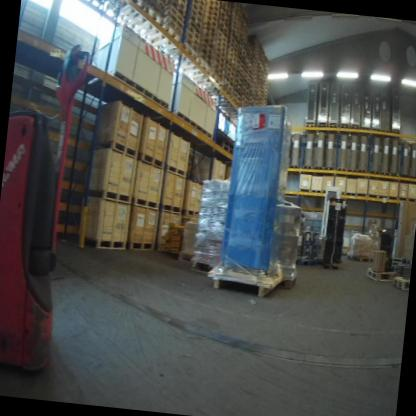pallet: (88, 63, 174, 117), (208, 255, 287, 299), (159, 107, 217, 150), (78, 229, 128, 259), (81, 184, 135, 211), (358, 257, 397, 290), (89, 135, 138, 160), (136, 150, 166, 174), (190, 253, 217, 278), (128, 236, 156, 258), (281, 268, 302, 296), (176, 250, 196, 275), (180, 206, 204, 225), (214, 145, 236, 165), (136, 195, 161, 212), (390, 269, 410, 289), (166, 161, 189, 178), (159, 200, 181, 216), (219, 137, 236, 152), (288, 159, 298, 174), (326, 122, 339, 132), (300, 163, 311, 174), (314, 122, 326, 132), (359, 124, 371, 134), (369, 125, 381, 135), (346, 166, 359, 175), (321, 165, 335, 173), (305, 121, 316, 131), (339, 122, 350, 132), (380, 126, 391, 136), (349, 123, 361, 132), (391, 128, 400, 140), (357, 166, 369, 175), (335, 165, 347, 174), (309, 186, 321, 195), (389, 170, 399, 180), (312, 163, 322, 173), (369, 168, 381, 176), (344, 191, 355, 199), (399, 172, 409, 179), (380, 169, 388, 177), (408, 173, 416, 181)
pallet_truck: (0, 27, 112, 380)
